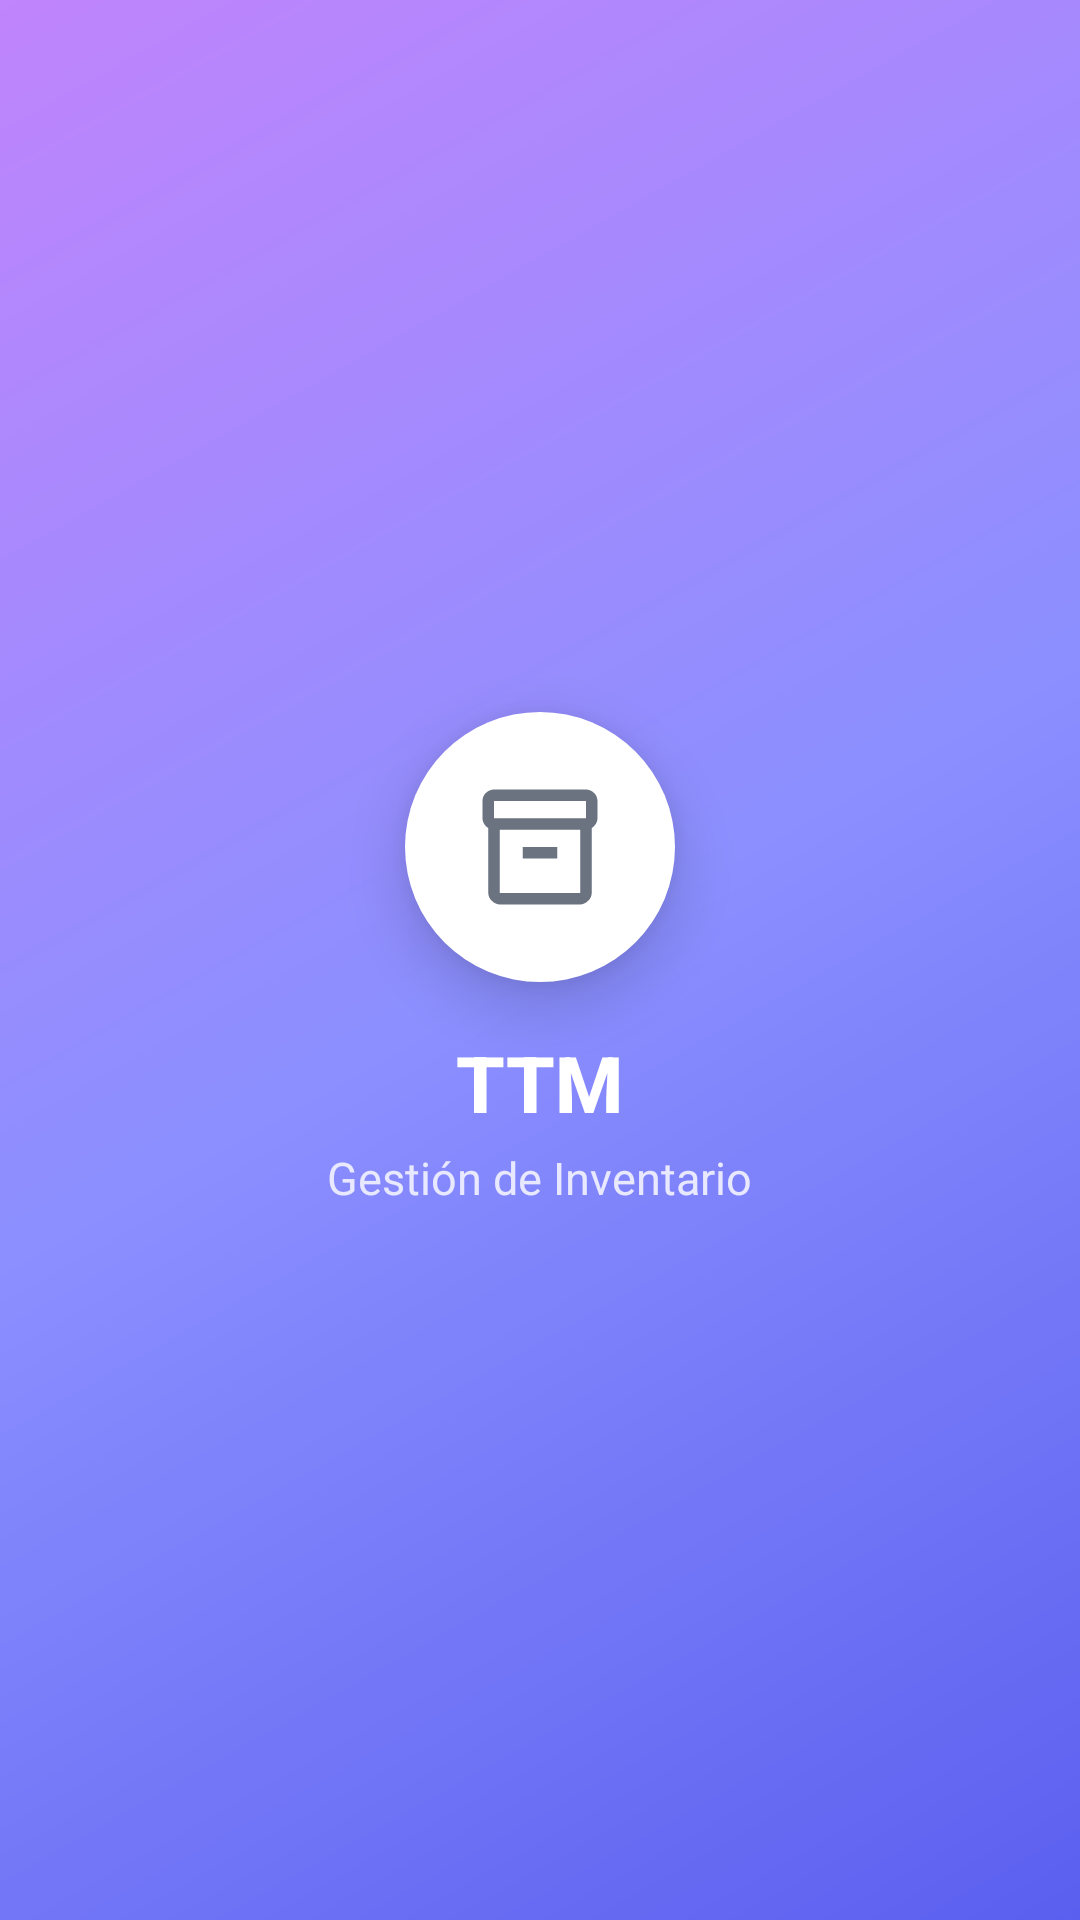

Locate icon controls on the screen. Image size 1080*1920, boxes as (x1, y1, x2, y2).
inventory: (405, 712, 675, 982)
